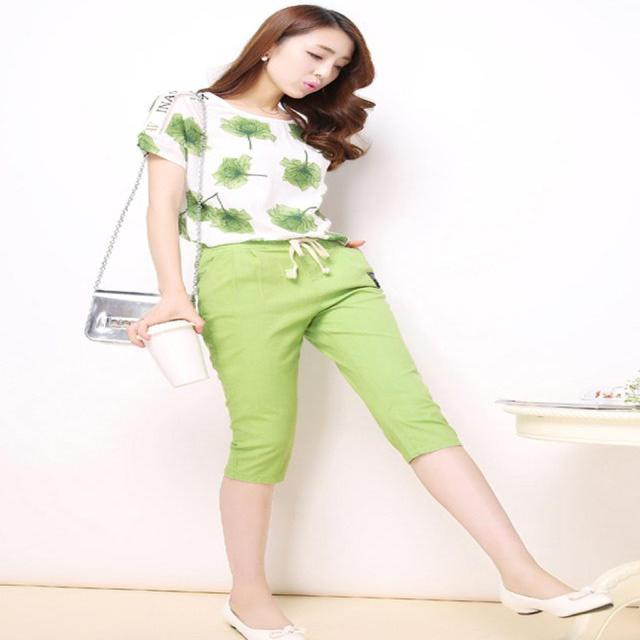short sleeve top: (140, 92, 337, 246)
trousers: (198, 241, 463, 478)
